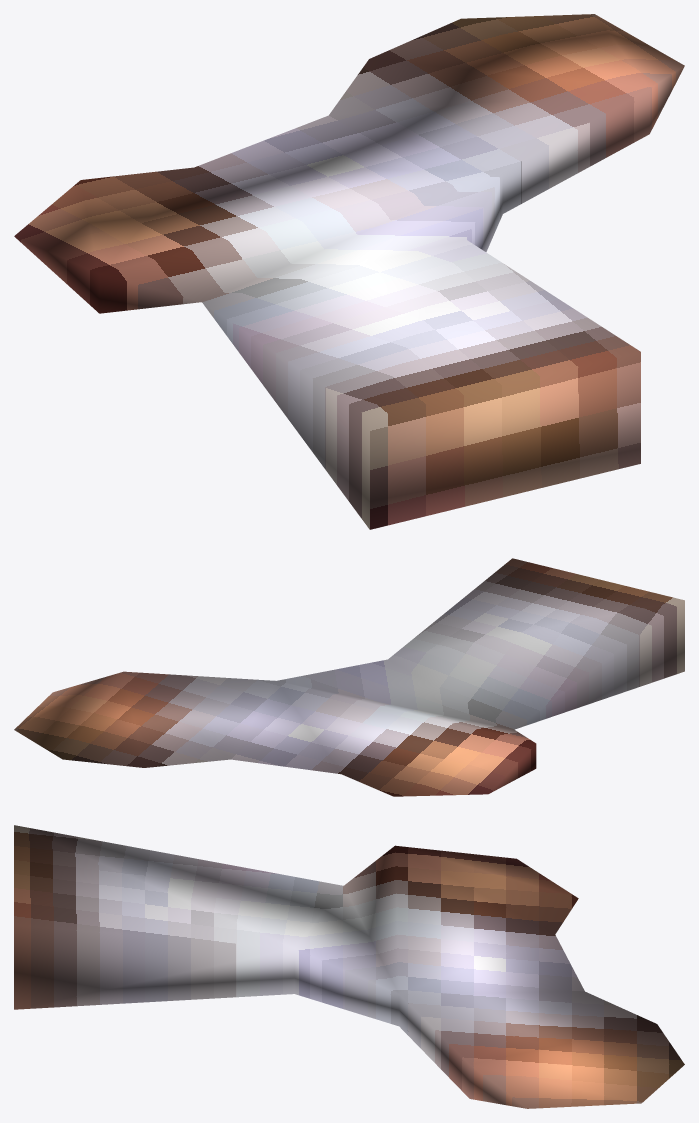
File: xmaseyangbal.glb
3 renders of one model, top to bottom at view 1: azimuth 30°, elevation 25°; view 2: azimuth 150°, elevation 25°; view 3: azimuth 270°, elevation 25°, orthographic. The views are drawn at different scales.
Visible parts, largest first — view 1: model_xmaseyangbal; view 2: model_xmaseyangbal; view 3: model_xmaseyangbal.
Boxes of the visible parts, <box> form: model_xmaseyangbal: <box>14,14,684,529</box>; model_xmaseyangbal: <box>14,558,684,796</box>; model_xmaseyangbal: <box>14,825,684,1108</box>.
Bounding box in the file's own units: 0.405 × 0.0639 × 0.4591.
1 material, 1 textured.
